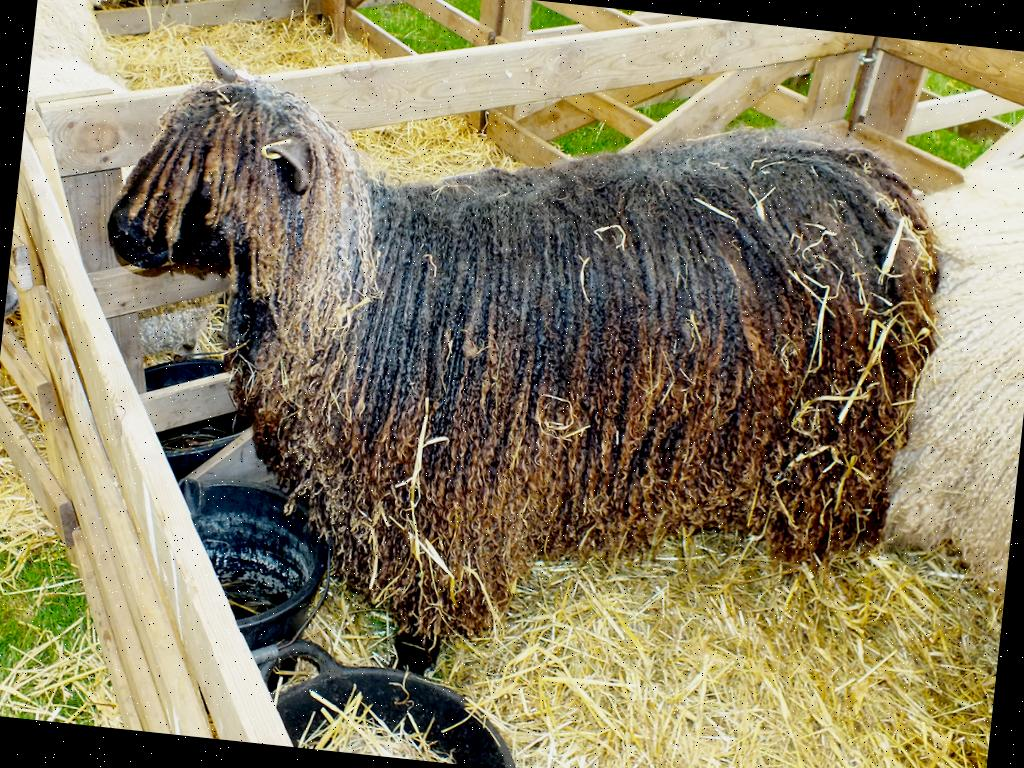Sheep: (63, 40, 957, 726), (1, 0, 250, 369), (879, 152, 1024, 612)
